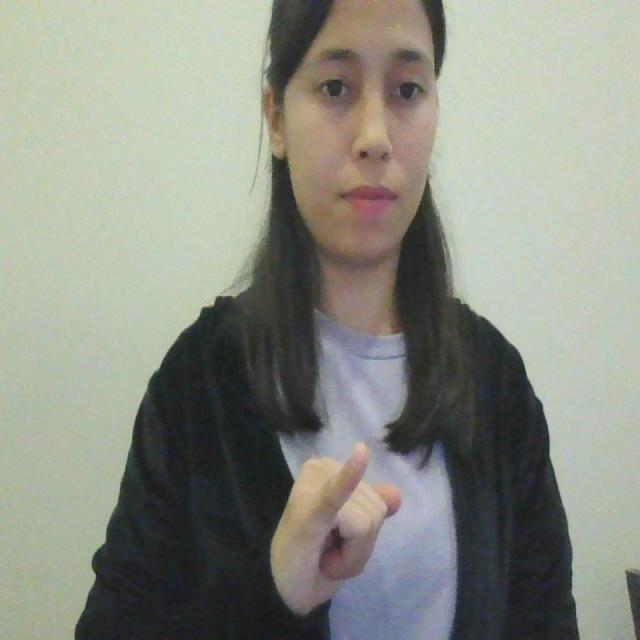kotu: (265, 437, 411, 602)
